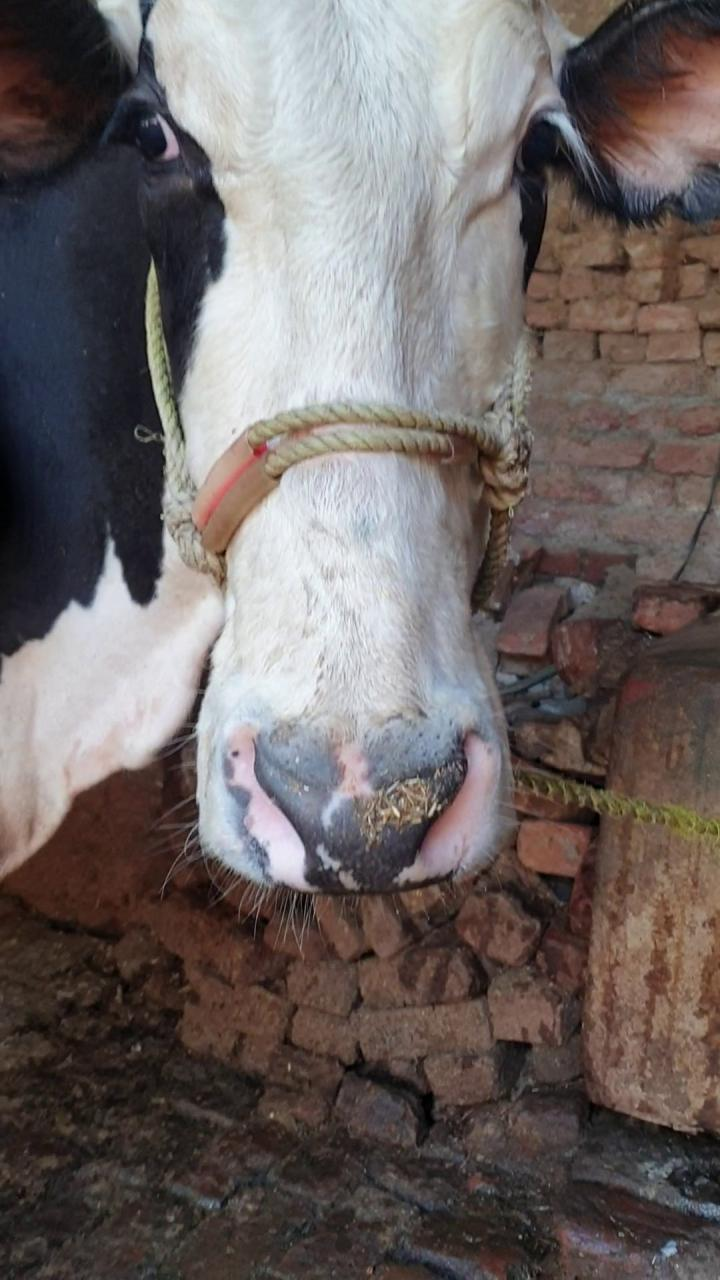cows: (100, 0, 616, 903)
